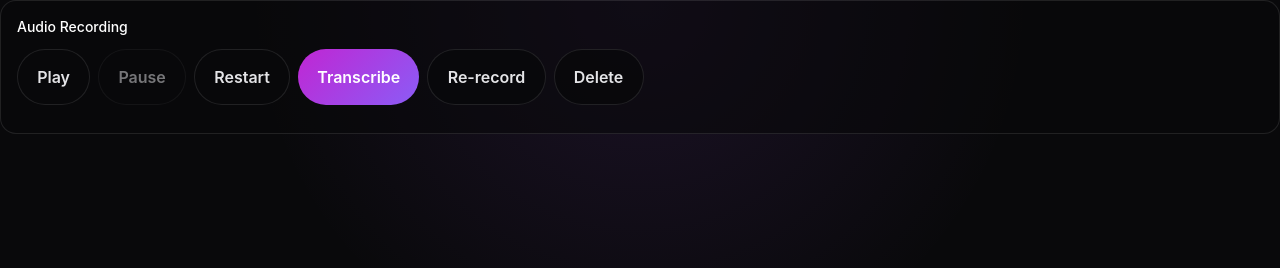
Test: AudioRecorder › surfaces model-load failure with a clear message
Step 1. Click the button "Transcribe" → point(359, 77), box [298, 49, 420, 105]
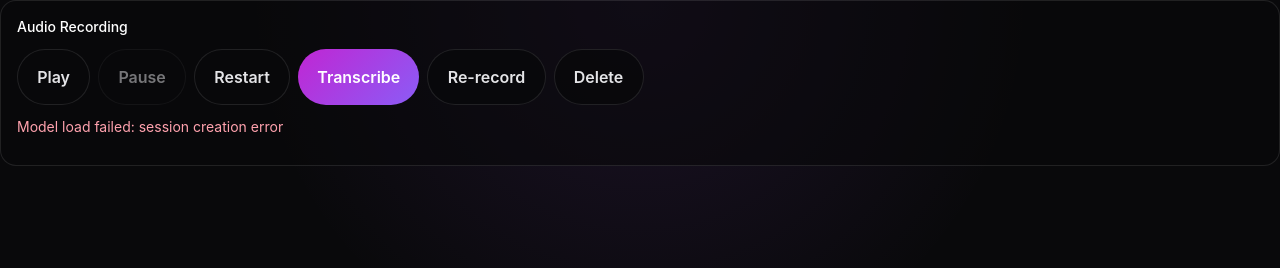
Check: the text "Model load failed: session creation error" is shown, box [17, 118, 283, 135]
